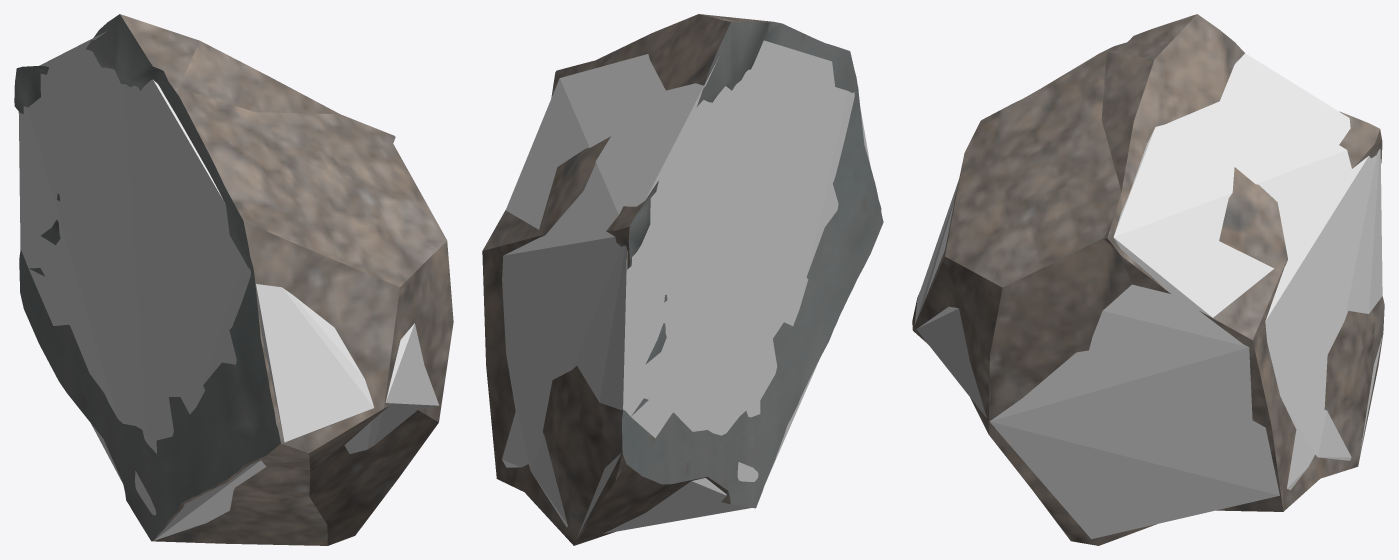
File: SM_Rock_05.fbx
The picture shows the model from 3 angles, left to right: view 1: azimuth 30°, elevation 25°; view 2: azimuth 150°, elevation 25°; view 3: azimuth 270°, elevation 25°; orthographic projection. The views are drawn at different scales.
Parts seen in each view (by area): view 1: SM_Rock_05_LOD0, SM_Rock_05_ConvexHulls; view 2: SM_Rock_05_ConvexHulls, SM_Rock_05_LOD0; view 3: SM_Rock_05_ConvexHulls, SM_Rock_05_LOD0.
Boxes of the visible parts, x1,y1,x2,y2 form: SM_Rock_05_LOD0: (14,14,453,545); SM_Rock_05_ConvexHulls: (18,31,439,540); SM_Rock_05_ConvexHulls: (502,40,870,537); SM_Rock_05_LOD0: (482,14,883,545); SM_Rock_05_ConvexHulls: (914,53,1382,538); SM_Rock_05_LOD0: (912,14,1384,545).
Bounding box in the file's own units: 23.56 × 47.24 × 50.85.
